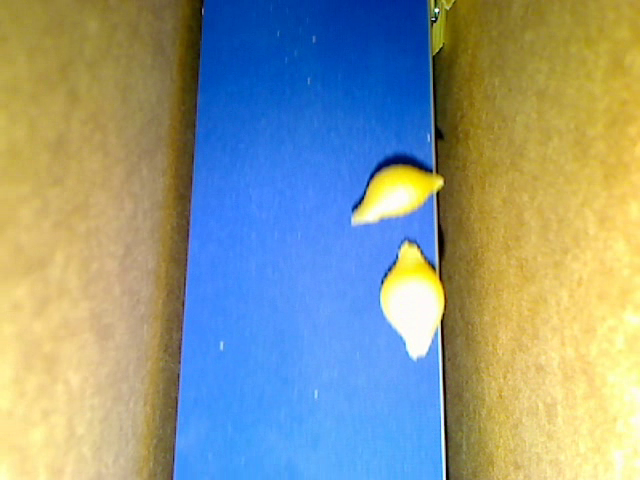penne: (430, 1, 449, 57)
shell: (377, 241, 445, 357), (348, 164, 445, 225)
